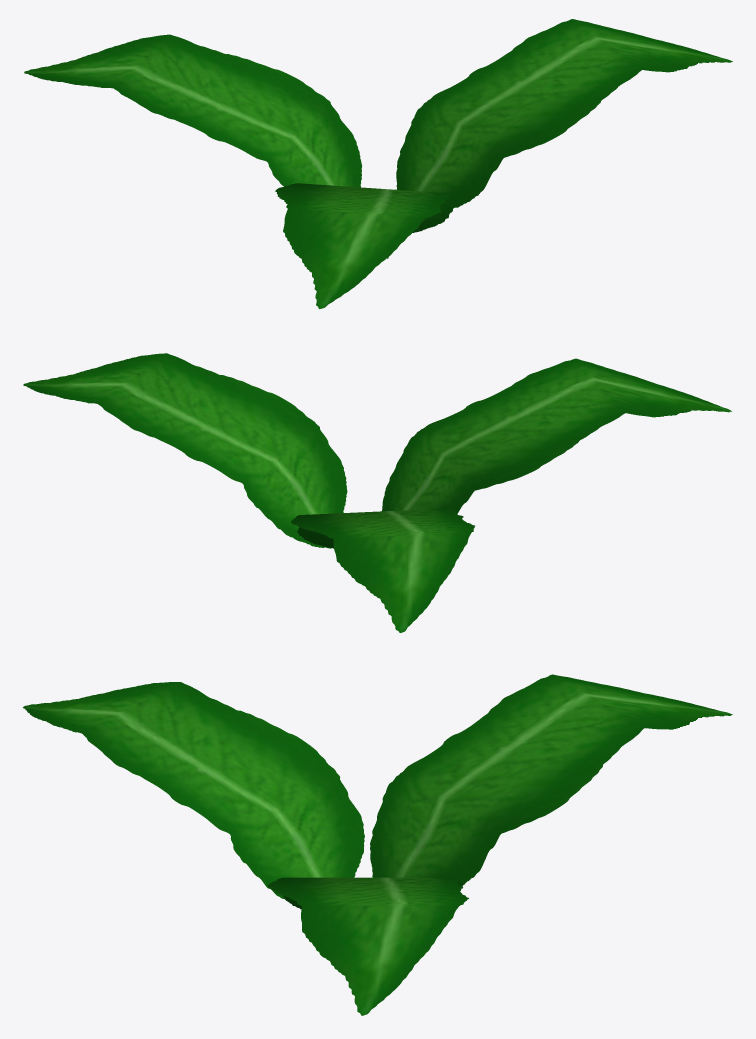
Rendered from bush01.obj.
3 renders of one model, top to bottom at view 1: azimuth 30°, elevation 25°; view 2: azimuth 150°, elevation 25°; view 3: azimuth 270°, elevation 25°, orthographic. The views are drawn at different scales.
Parts seen in each view (by area): view 1: Triangles, Duplicate01, Duplicate02; view 2: Triangles, Duplicate02, Duplicate01; view 3: Duplicate02, Duplicate01, Triangles.
Part boxes in pixels (left/top/right/bottom): Triangles: left=387, top=19, right=732, bottom=258; Duplicate01: left=24, top=34, right=361, bottom=187; Duplicate02: left=275, top=183, right=456, bottom=308; Triangles: left=23, top=353, right=347, bottom=548; Duplicate02: left=382, top=358, right=731, bottom=513; Duplicate01: left=291, top=508, right=474, bottom=632; Duplicate02: left=23, top=682, right=364, bottom=901; Duplicate01: left=370, top=674, right=732, bottom=884; Triangles: left=268, top=877, right=468, bottom=1015.
Bounding box in the file's own units: 35.74 × 9.23 × 34.61.
